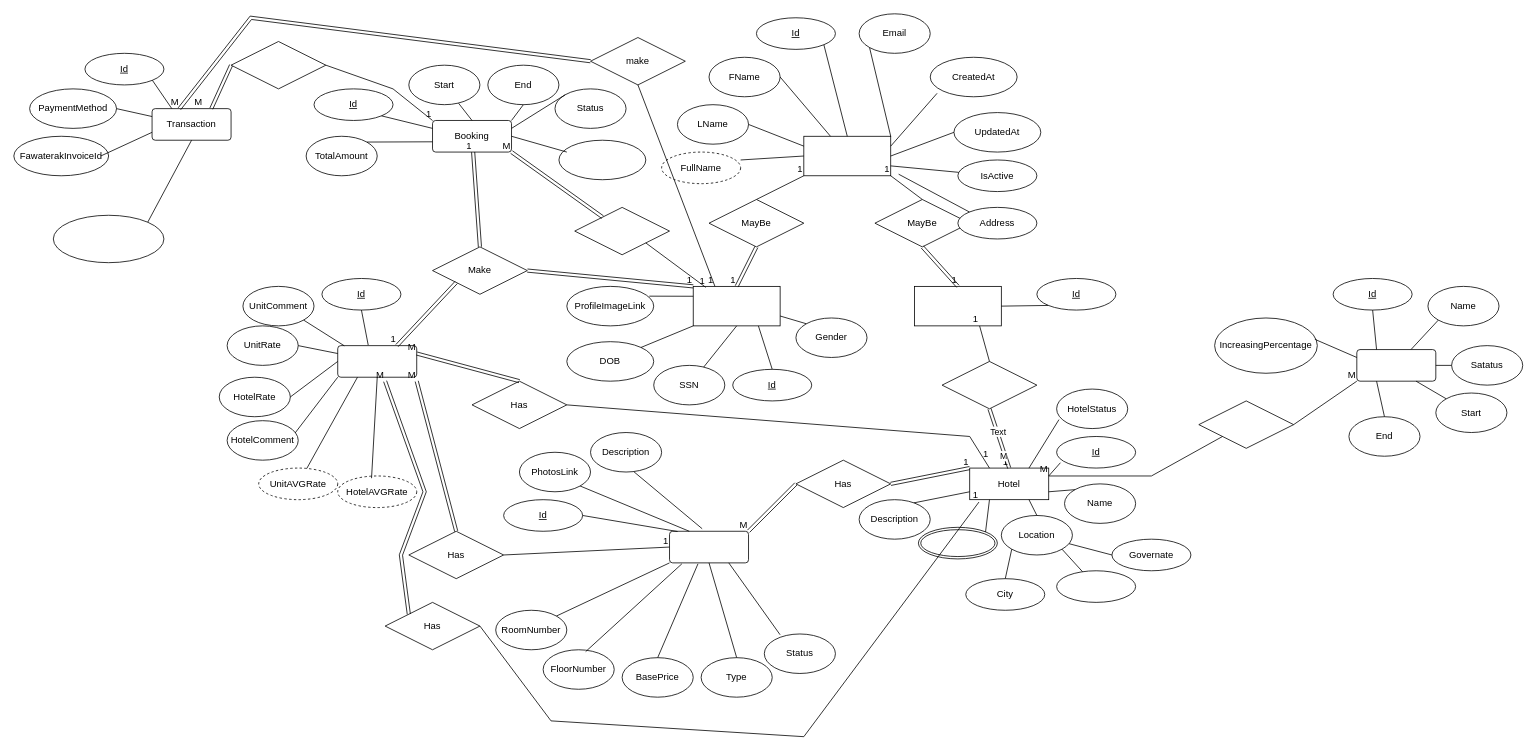
The diagram is 1537 pixels wide and 751 high, and some of its shapes have lost their labels. Here are the shapes that lost their labels. From the top down, the box of each, then its label:
(230, 41, 326, 89): Relationship
(558, 139, 646, 180): CountOfPersons
(803, 135, 891, 176): User
(53, 214, 164, 263): TransactionPayStatus
(574, 207, 670, 255): Book
(692, 286, 780, 326): Client
(914, 286, 1001, 326): Admin
(337, 345, 417, 377): Review
(1356, 349, 1436, 381): SeasonalPricing
(941, 361, 1037, 409): Own
(1198, 400, 1294, 448): Include
(669, 530, 749, 563): Unit
(918, 527, 997, 559): PhotesLinks
(1056, 570, 1136, 602): Street
